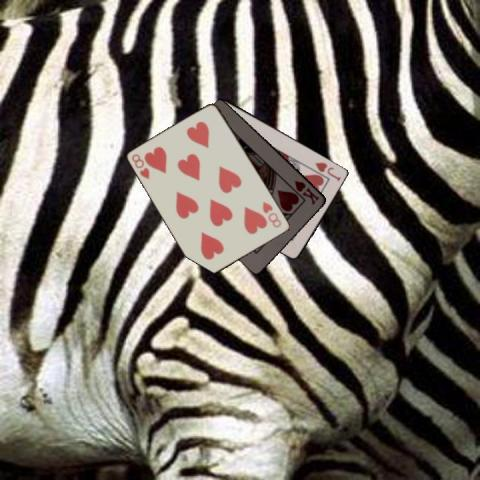8h: (260, 198, 283, 229), (129, 150, 151, 180)
Jh: (312, 159, 342, 183)
Kh: (291, 177, 321, 206)
